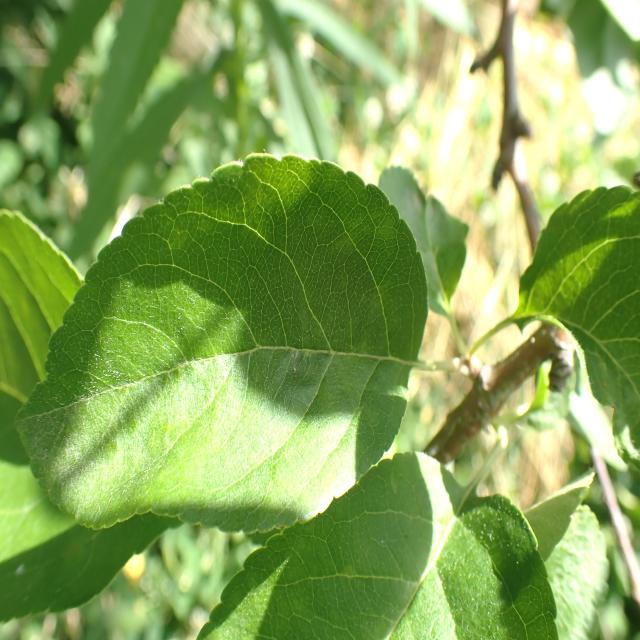healthy: (14, 152, 431, 536), (0, 211, 179, 625), (196, 450, 559, 640), (508, 183, 640, 472)
